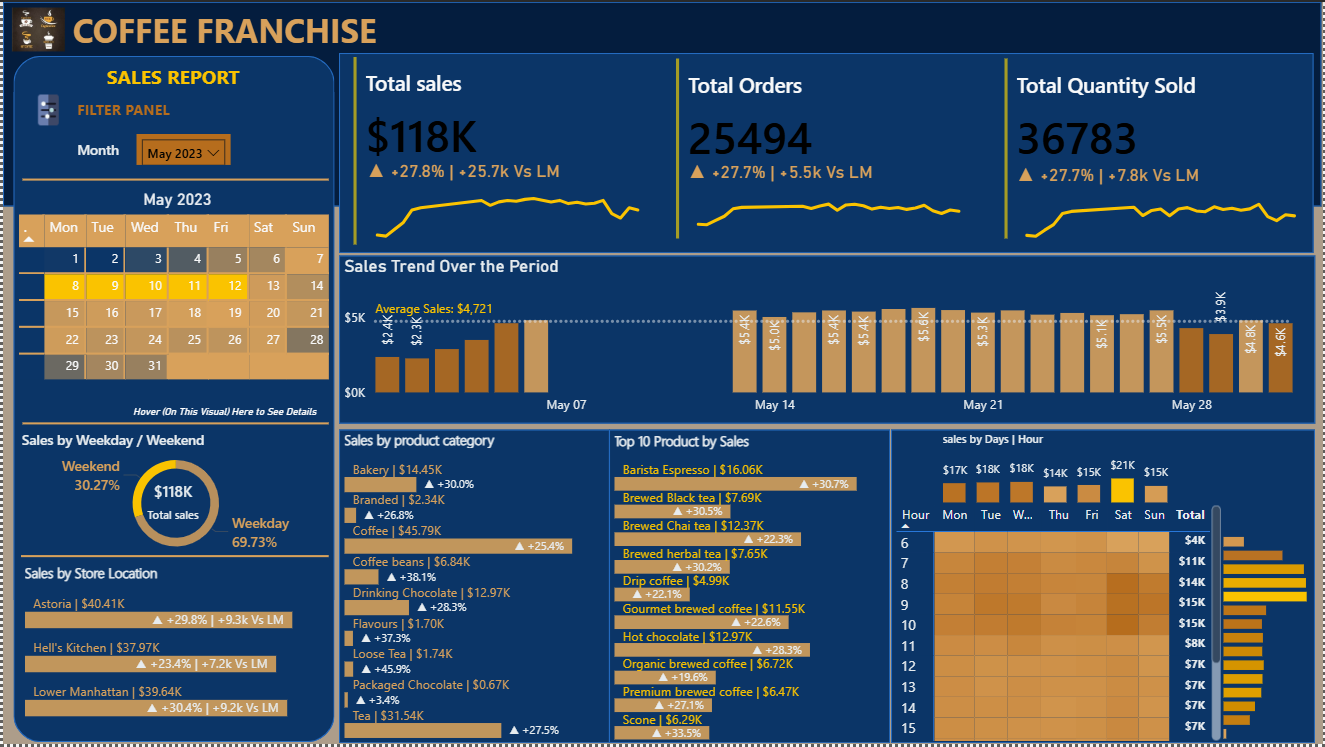

The page's visual inventory and layout, read from the dashboard file:
{"tool":"powerbi","page":{"name":"Coffee Franchise Reports","canvas":[1280,720],"ordinal":0},"visuals":[{"type":"shape","box":[0,0,1279.4,198.4],"z":0},{"type":"shape","box":[325.6,49,945.7,194.3],"z":0,"group":"g4"},{"type":"donutChart","title":"Sales by Weekday / Weekend","fields":{"Category":["Calender Table.Weekday / Weekend"],"Y":["Transaction.Total sales"]},"box":[12.9,414.3,308.6,130],"z":0,"group":"g6"},{"type":"group","id":"g1","title":"Group 1","box":[334.9,47.4,295.9,192.9],"z":1000,"group":"g4"},{"type":"shape","box":[326.3,246.1,947.4,163.2],"z":1000},{"type":"card","fields":{"Values":["Transaction.Total sales"]},"box":[129.5,450.5,70.5,64.3],"z":1000,"group":"g6"},{"type":"group","id":"g2","title":"Group 1","box":[647.6,48.3,298.6,187.1],"z":2000,"group":"g4"},{"type":"shape","box":[10,52.9,311.4,665.7],"z":2000},{"type":"textbox","box":[62.1,0,308.9,53],"z":3000},{"type":"group","id":"g3","title":"Group 1","box":[966.2,48.3,301.4,190],"z":3000,"group":"g4"},{"type":"group","id":"g4","title":"Group 2","box":[325.6,47.4,945.7,195.9],"z":4000},{"type":"cardVisual","fields":{"Data":["Transactions.Total sales"]},"box":[334.9,47.4,295.7,192.9],"z":4000,"group":"g1"},{"type":"cardVisual","fields":{"Data":["Transaction.Total Orders"]},"box":[647.6,48.3,298.6,185.7],"z":4000,"group":"g2"},{"type":"cardVisual","fields":{"Data":["Transaction.Total Quantity Sold"]},"box":[966.2,48.3,300,185.7],"z":4000,"group":"g3"},{"type":"slicer","fields":{"Values":["Calender Table.Month/Year"]},"box":[130,128.8,91.2,30],"z":5000},{"type":"pivotTable","fields":{"Rows":["Calender Table.Week Number"],"Columns":["Calender Table.Day Name"],"Values":["Sum(Calender Table.Day Number)"]},"box":[10,201.4,311.4,212.9],"z":5000,"group":"g5"},{"type":"cardVisual","fields":{"Data":["Transaction.Foot Note"]},"box":[108.3,367.5,213.1,46.8],"z":5504,"group":"g5"},{"type":"lineChart","fields":{"Y":["Transaction.Total sales"],"Category":["Calender Table.Date.Variation.Date Hierarchy.Year"]},"box":[347.9,152.6,282.9,82.9],"z":6000,"group":"g1"},{"type":"lineChart","fields":{"Y":["Transaction.Total Orders"],"Category":["Calender Table.Date.Variation.Date Hierarchy.Year"]},"box":[658.8,152.9,282.9,83],"z":6000,"group":"g2"},{"type":"lineChart","fields":{"Category":["Calender Table.Date.Variation.Date Hierarchy.Year"],"Y":["Transaction.Total Quantity Sold"]},"box":[977.2,155.6,289.8,83],"z":6000,"group":"g3"},{"type":"cardVisual","fields":{"Data":["Min(Calender Table.Month/Year)"]},"box":[120,157.3,117.3,48],"z":6000},{"type":"group","id":"g5","title":"Group 3","box":[10,201.4,311.4,212.9],"z":7000},{"type":"shape","box":[18.6,402.9,297.1,11.4],"z":8000},{"type":"shape","box":[18.6,162.9,297.1,18.6],"z":9000},{"type":"group","id":"g6","title":"Group 4","box":[12.9,414.3,308.6,130],"z":10000},{"type":"shape","box":[17.1,531.4,298.6,12.9],"z":11000},{"type":"clusteredBarChart","title":"Sales by Store Location","fields":{"Category":["Transaction.store_location"],"Y":["Transaction.Placeholder","Transaction.Total sales"]},"box":[15.7,544.3,305.7,155.7],"z":12000},{"type":"columnChart","title":"Sales Trend Over the Period","fields":{"Category":["Transaction.transaction_date"],"Y":["Transaction.Total sales"]},"box":[325.7,245.7,940,162.9],"z":13000},{"type":"shape","box":[325.7,414.3,262.9,304.3],"z":14000},{"type":"clusteredBarChart","title":"Sales by product category","fields":{"Y":["Transaction.Placeholder","Transaction.Total sales"],"Category":["Transaction.product_category"]},"box":[325.7,414.3,262.9,304.3],"z":15000},{"type":"shape","box":[588.6,414.3,272.9,304.3],"z":16000},{"type":"clusteredBarChart","title":"Top 10 Product by Sales","fields":{"Y":["Transaction.Placeholder","Transaction.Total sales"],"Category":["Transaction.product_type"]},"box":[588.6,415.7,275.7,304.3],"z":17000},{"type":"shape","box":[861.4,414.3,411.4,304.3],"z":18000},{"type":"pivotTable","fields":{"Rows":["Transaction.Hour"],"Columns":["Calender Table.Day Name"],"Values":["Transaction.Total sales"]},"box":[861.8,482.9,325,238.2],"z":19000},{"type":"barChart","fields":{"Category":["Transaction.Hour"],"Y":["Transaction.Total sales"]},"box":[1178.3,505,91.7,215],"z":20000},{"type":"columnChart","title":"sales by Days | Hour","fields":{"Y":["Transaction.Total sales"],"Category":["Calender Table.Day Name"]},"box":[906.2,416.2,228.8,75],"z":21000},{"type":"textbox","box":[66.2,128.8,53.8,30],"z":22000},{"type":"textbox","box":[85,53.3,161.7,35],"z":23000},{"type":"textbox","box":[67.5,88.8,108.8,30],"z":24000},{"type":"image","box":[20,83.8,47.5,40],"z":25000},{"type":"image","box":[0,0,68.1,53],"z":25001}]}

Visuals, with their boxes in screenshot pixels (x1, y1, x2, y2), scaled from the page's 1280x720 canvas onto the 1325x747 screenshot:
shape: [x1=0, y1=0, x2=1324, y2=206]
shape: [x1=337, y1=51, x2=1316, y2=252]
"Sales by Weekday / Weekend" donutChart: [x1=13, y1=430, x2=333, y2=565]
"Group 1" group: [x1=347, y1=49, x2=653, y2=249]
shape: [x1=338, y1=255, x2=1318, y2=425]
card - Transaction.Total sales: [x1=134, y1=467, x2=207, y2=534]
"Group 1" group: [x1=670, y1=50, x2=979, y2=244]
shape: [x1=10, y1=55, x2=333, y2=746]
textbox: [x1=64, y1=0, x2=384, y2=55]
"Group 1" group: [x1=1000, y1=50, x2=1312, y2=247]
"Group 2" group: [x1=337, y1=49, x2=1316, y2=252]
cardVisual - Transactions.Total sales: [x1=347, y1=49, x2=653, y2=249]
cardVisual - Transaction.Total Orders: [x1=670, y1=50, x2=979, y2=243]
cardVisual - Transaction.Total Quantity Sold: [x1=1000, y1=50, x2=1311, y2=243]
slicer - Calender Table.Month/Year: [x1=135, y1=134, x2=229, y2=165]
pivotTable - Calender Table.Week Number x Calender Table.Day Name: [x1=10, y1=209, x2=333, y2=430]
cardVisual - Transaction.Foot Note: [x1=112, y1=381, x2=333, y2=430]
lineChart - Transaction.Total sales x Calender Table.Date.Variation.Date Hierarchy.Year: [x1=360, y1=158, x2=653, y2=244]
lineChart - Transaction.Total Orders x Calender Table.Date.Variation.Date Hierarchy.Year: [x1=682, y1=159, x2=975, y2=245]
lineChart - Calender Table.Date.Variation.Date Hierarchy.Year x Transaction.Total Quantity Sold: [x1=1012, y1=161, x2=1312, y2=248]
cardVisual - Min(Calender Table.Month/Year): [x1=124, y1=163, x2=246, y2=213]
"Group 3" group: [x1=10, y1=209, x2=333, y2=430]
shape: [x1=19, y1=418, x2=327, y2=430]
shape: [x1=19, y1=169, x2=327, y2=188]
"Group 4" group: [x1=13, y1=430, x2=333, y2=565]
shape: [x1=18, y1=551, x2=327, y2=565]
"Sales by Store Location" clusteredBarChart: [x1=16, y1=565, x2=333, y2=726]
"Sales Trend Over the Period" columnChart: [x1=337, y1=255, x2=1310, y2=424]
shape: [x1=337, y1=430, x2=609, y2=746]
"Sales by product category" clusteredBarChart: [x1=337, y1=430, x2=609, y2=746]
shape: [x1=609, y1=430, x2=892, y2=746]
"Top 10 Product by Sales" clusteredBarChart: [x1=609, y1=431, x2=895, y2=746]
shape: [x1=892, y1=430, x2=1318, y2=746]
pivotTable - Transaction.Hour x Calender Table.Day Name: [x1=892, y1=501, x2=1229, y2=746]
barChart - Transaction.Hour x Transaction.Total sales: [x1=1220, y1=524, x2=1315, y2=746]
"sales by Days | Hour" columnChart: [x1=938, y1=432, x2=1175, y2=510]
textbox: [x1=69, y1=134, x2=124, y2=165]
textbox: [x1=88, y1=55, x2=255, y2=92]
textbox: [x1=70, y1=92, x2=182, y2=123]
image: [x1=21, y1=87, x2=70, y2=128]
image: [x1=0, y1=0, x2=70, y2=55]
